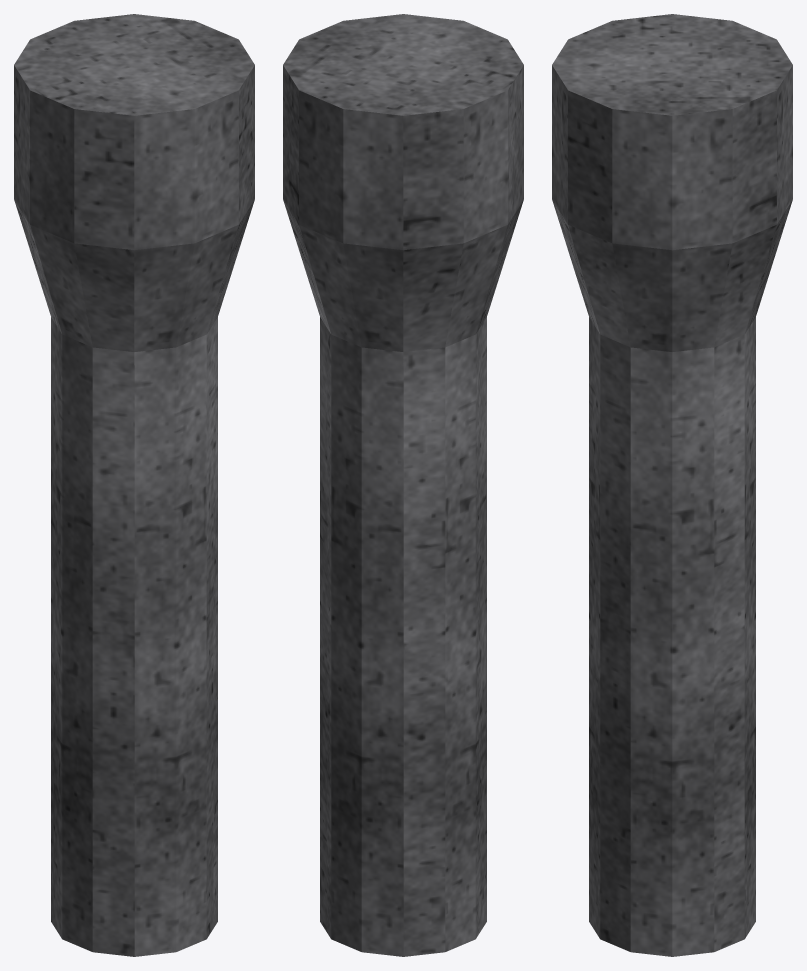
The model's file is stove_flue.fbx.
3 renders of one model, left to right at view 1: azimuth 30°, elevation 25°; view 2: azimuth 150°, elevation 25°; view 3: azimuth 270°, elevation 25°, orthographic.
Parts seen in each view (by area): view 1: stove_flue; view 2: stove_flue; view 3: stove_flue.
Boxes of the visible parts, left/top/right/bottom form: stove_flue: left=14, top=14, right=254, bottom=956; stove_flue: left=283, top=14, right=523, bottom=956; stove_flue: left=552, top=14, right=792, bottom=956.
Size of the model in its own units: 26 by 102 by 26.
